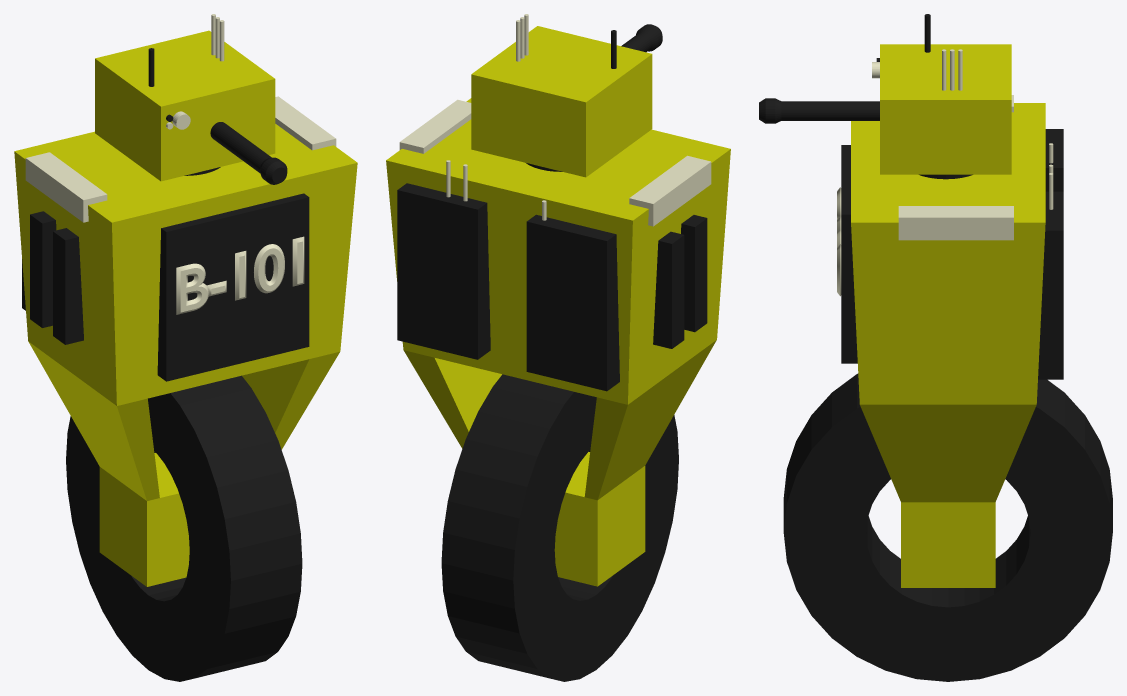
File: Bot_Exp.fbx
3 renders of one model, left to right at view 1: azimuth 30°, elevation 25°; view 2: azimuth 150°, elevation 25°; view 3: azimuth 270°, elevation 25°, orthographic.
Visible parts, largest first — view 1: Cylinder.009, Circle, Cylinder.007, Text, Cube.005; view 2: Cylinder.009, Circle, Cylinder.007, Cube.005; view 3: Cylinder.009, Circle, Cylinder.007, Text.
Part boxes in pixels (bbox=[...]): Cylinder.009: bbox=[14, 96, 357, 586]; Circle: bbox=[66, 375, 302, 681]; Cylinder.007: bbox=[95, 14, 287, 184]; Text: bbox=[176, 236, 304, 314]; Cube.005: bbox=[25, 152, 107, 222]; Cylinder.009: bbox=[386, 98, 730, 586]; Circle: bbox=[441, 374, 678, 681]; Cylinder.007: bbox=[471, 14, 662, 177]; Cube.005: bbox=[629, 155, 711, 226]; Cylinder.009: bbox=[841, 103, 1063, 587]; Circle: bbox=[783, 373, 1112, 681]; Cylinder.007: bbox=[759, 14, 1011, 174]; Text: bbox=[837, 187, 841, 296].
Size of the model in its own units: 364 by 847 by 430.
